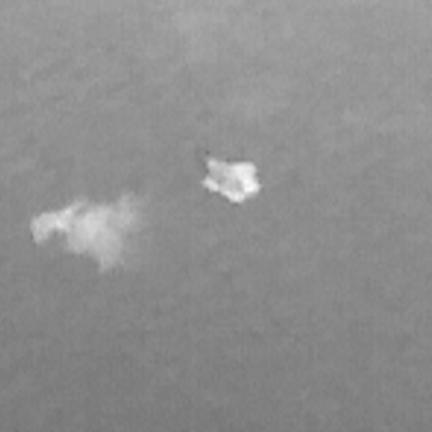flukeprints: (32, 193, 150, 269), (200, 156, 261, 204)
